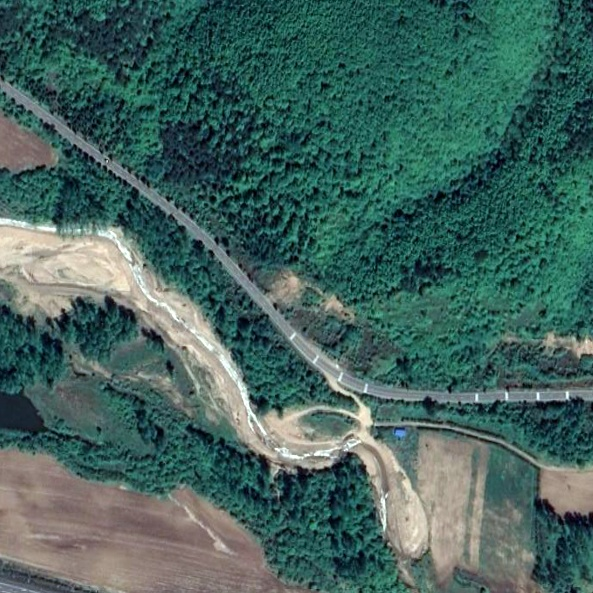slope: (262, 262, 357, 324), (496, 329, 592, 366)
